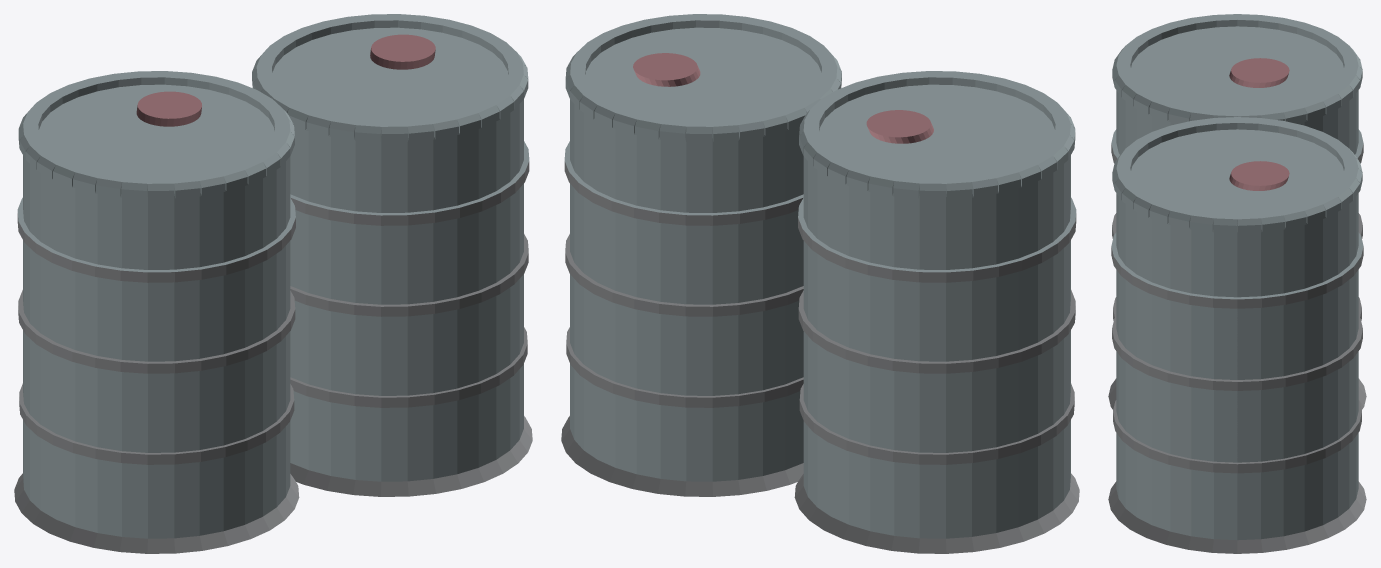
3 views of the same model, side by side, from view 1: azimuth 30°, elevation 25°; view 2: azimuth 150°, elevation 25°; view 3: azimuth 270°, elevation 25° (orthographic). The views are drawn at different scales.
Parts seen in each view (by area): view 1: colored; view 2: colored; view 3: colored.
Boxes of the visible parts, <box> form: colored: <box>14,14,532,553</box>; colored: <box>561,14,1079,553</box>; colored: <box>1108,14,1366,553</box>.
Bounding box in the file's own units: 2.06 × 1.53 × 1.06.
